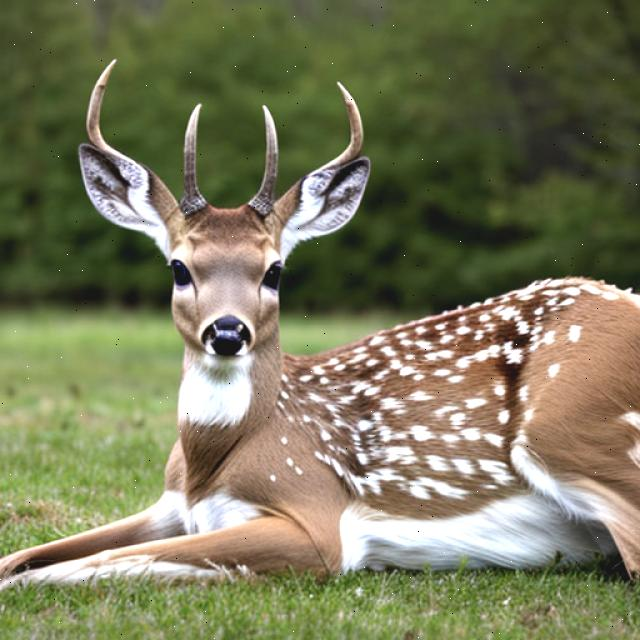deer: (56, 47, 635, 640)
